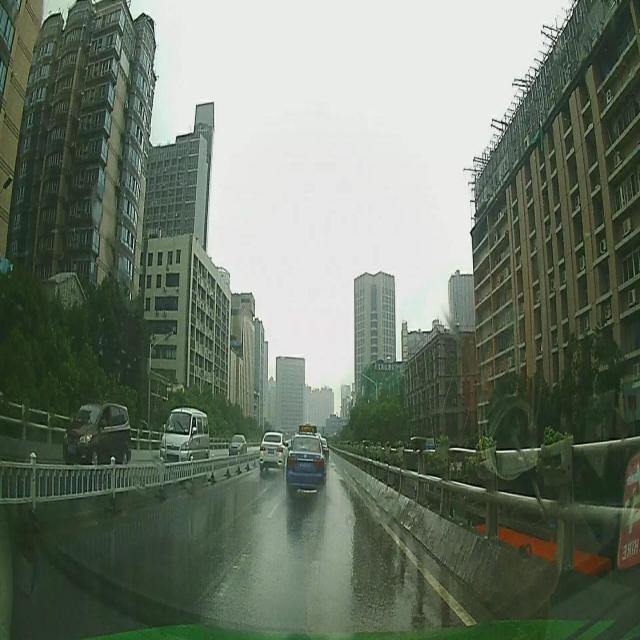car: (62, 401, 131, 467), (157, 405, 210, 466), (284, 428, 325, 493), (260, 429, 292, 472), (228, 434, 248, 458)
